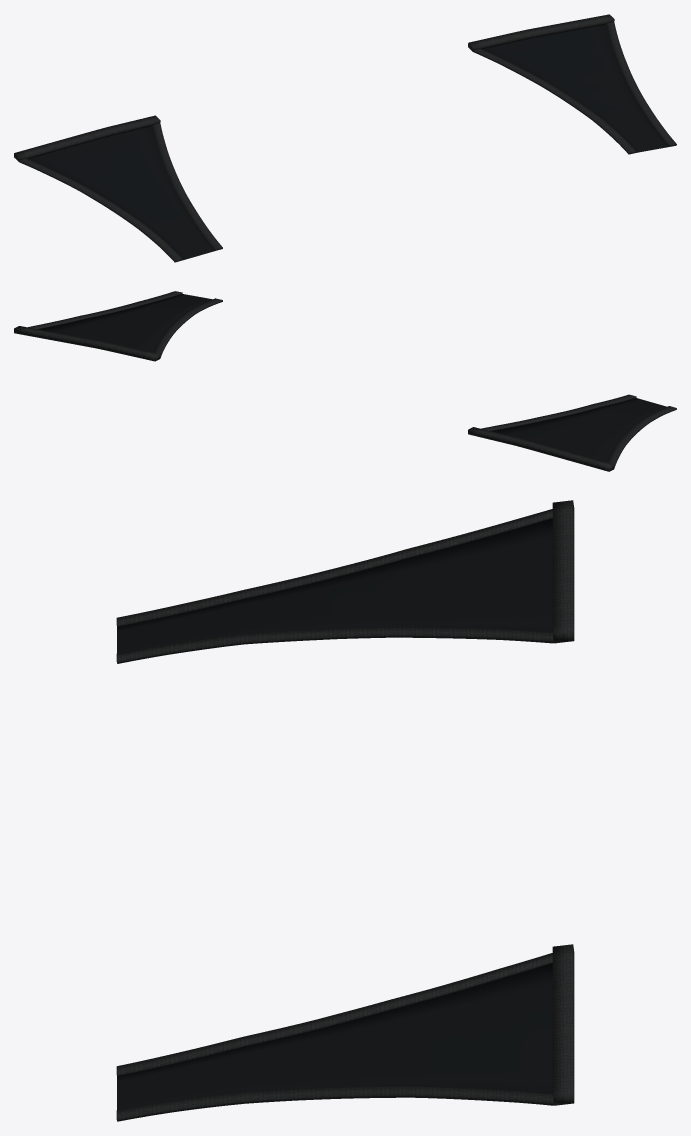
File: DT72_naca_ducts.glb
3 views of the same model, one above another, from view 1: azimuth 30°, elevation 25°; view 2: azimuth 150°, elevation 25°; view 3: azimuth 270°, elevation 25° (orthographic). The views are drawn at different scales.
Visible parts, largest first — view 1: MOD_NA_DT72_recess_R, MOD_NA_DT72_recess_L, MOD_NA_DT72_lip_R, MOD_NA_DT72_lip_L, MOD_NA_DT72_surround_Ro, MOD_NA_DT72_surround_Li, MOD_NA_DT72_surround_Ri, MOD_NA_DT72_surround_Lo; view 2: MOD_NA_DT72_recess_R, MOD_NA_DT72_recess_L, MOD_NA_DT72_lip_R, MOD_NA_DT72_lip_L, MOD_NA_DT72_surround_Ri, MOD_NA_DT72_surround_Lo, MOD_NA_DT72_surround_Ro, MOD_NA_DT72_surround_Li; view 3: MOD_NA_DT72_recess_L, MOD_NA_DT72_recess_R, MOD_NA_DT72_surround_Lo, MOD_NA_DT72_surround_Ri, MOD_NA_DT72_surround_Li, MOD_NA_DT72_surround_Ro, MOD_NA_DT72_lip_L, MOD_NA_DT72_lip_R.
Boxes of the visible parts, left/top/right/bottom form: MOD_NA_DT72_recess_R: left=29, top=126, right=214, bottom=260; MOD_NA_DT72_recess_L: left=483, top=24, right=668, bottom=152; MOD_NA_DT72_lip_R: left=14, top=115, right=160, bottom=161; MOD_NA_DT72_lip_L: left=468, top=14, right=614, bottom=51; MOD_NA_DT72_surround_Ro: left=19, top=158, right=182, bottom=262; MOD_NA_DT72_surround_Li: left=473, top=48, right=636, bottom=154; MOD_NA_DT72_surround_Ri: left=152, top=123, right=222, bottom=250; MOD_NA_DT72_surround_Lo: left=606, top=22, right=676, bottom=146; MOD_NA_DT72_recess_R: left=492, top=398, right=666, bottom=462; MOD_NA_DT72_recess_L: left=39, top=294, right=211, bottom=352; MOD_NA_DT72_lip_R: left=468, top=427, right=614, bottom=471; MOD_NA_DT72_lip_L: left=14, top=326, right=160, bottom=361; MOD_NA_DT72_surround_Ri: left=481, top=394, right=636, bottom=431; MOD_NA_DT72_surround_Lo: left=28, top=291, right=182, bottom=329; MOD_NA_DT72_surround_Ro: left=608, top=406, right=676, bottom=467; MOD_NA_DT72_surround_Li: left=154, top=298, right=222, bottom=357; MOD_NA_DT72_recess_L: left=117, top=963, right=552, bottom=1109; MOD_NA_DT72_recess_R: left=117, top=518, right=552, bottom=653; MOD_NA_DT72_surround_Lo: left=116, top=1086, right=553, bottom=1121; MOD_NA_DT72_surround_Ri: left=116, top=627, right=553, bottom=663; MOD_NA_DT72_surround_Li: left=116, top=953, right=552, bottom=1076; MOD_NA_DT72_surround_Ro: left=116, top=509, right=552, bottom=626; MOD_NA_DT72_lip_L: left=552, top=944, right=574, bottom=1105; MOD_NA_DT72_lip_R: left=552, top=500, right=574, bottom=643.
Size of the model in its own units: 0.9447 by 0.0702 by 0.3146.
Materials: 2 (1 with a texture image).
